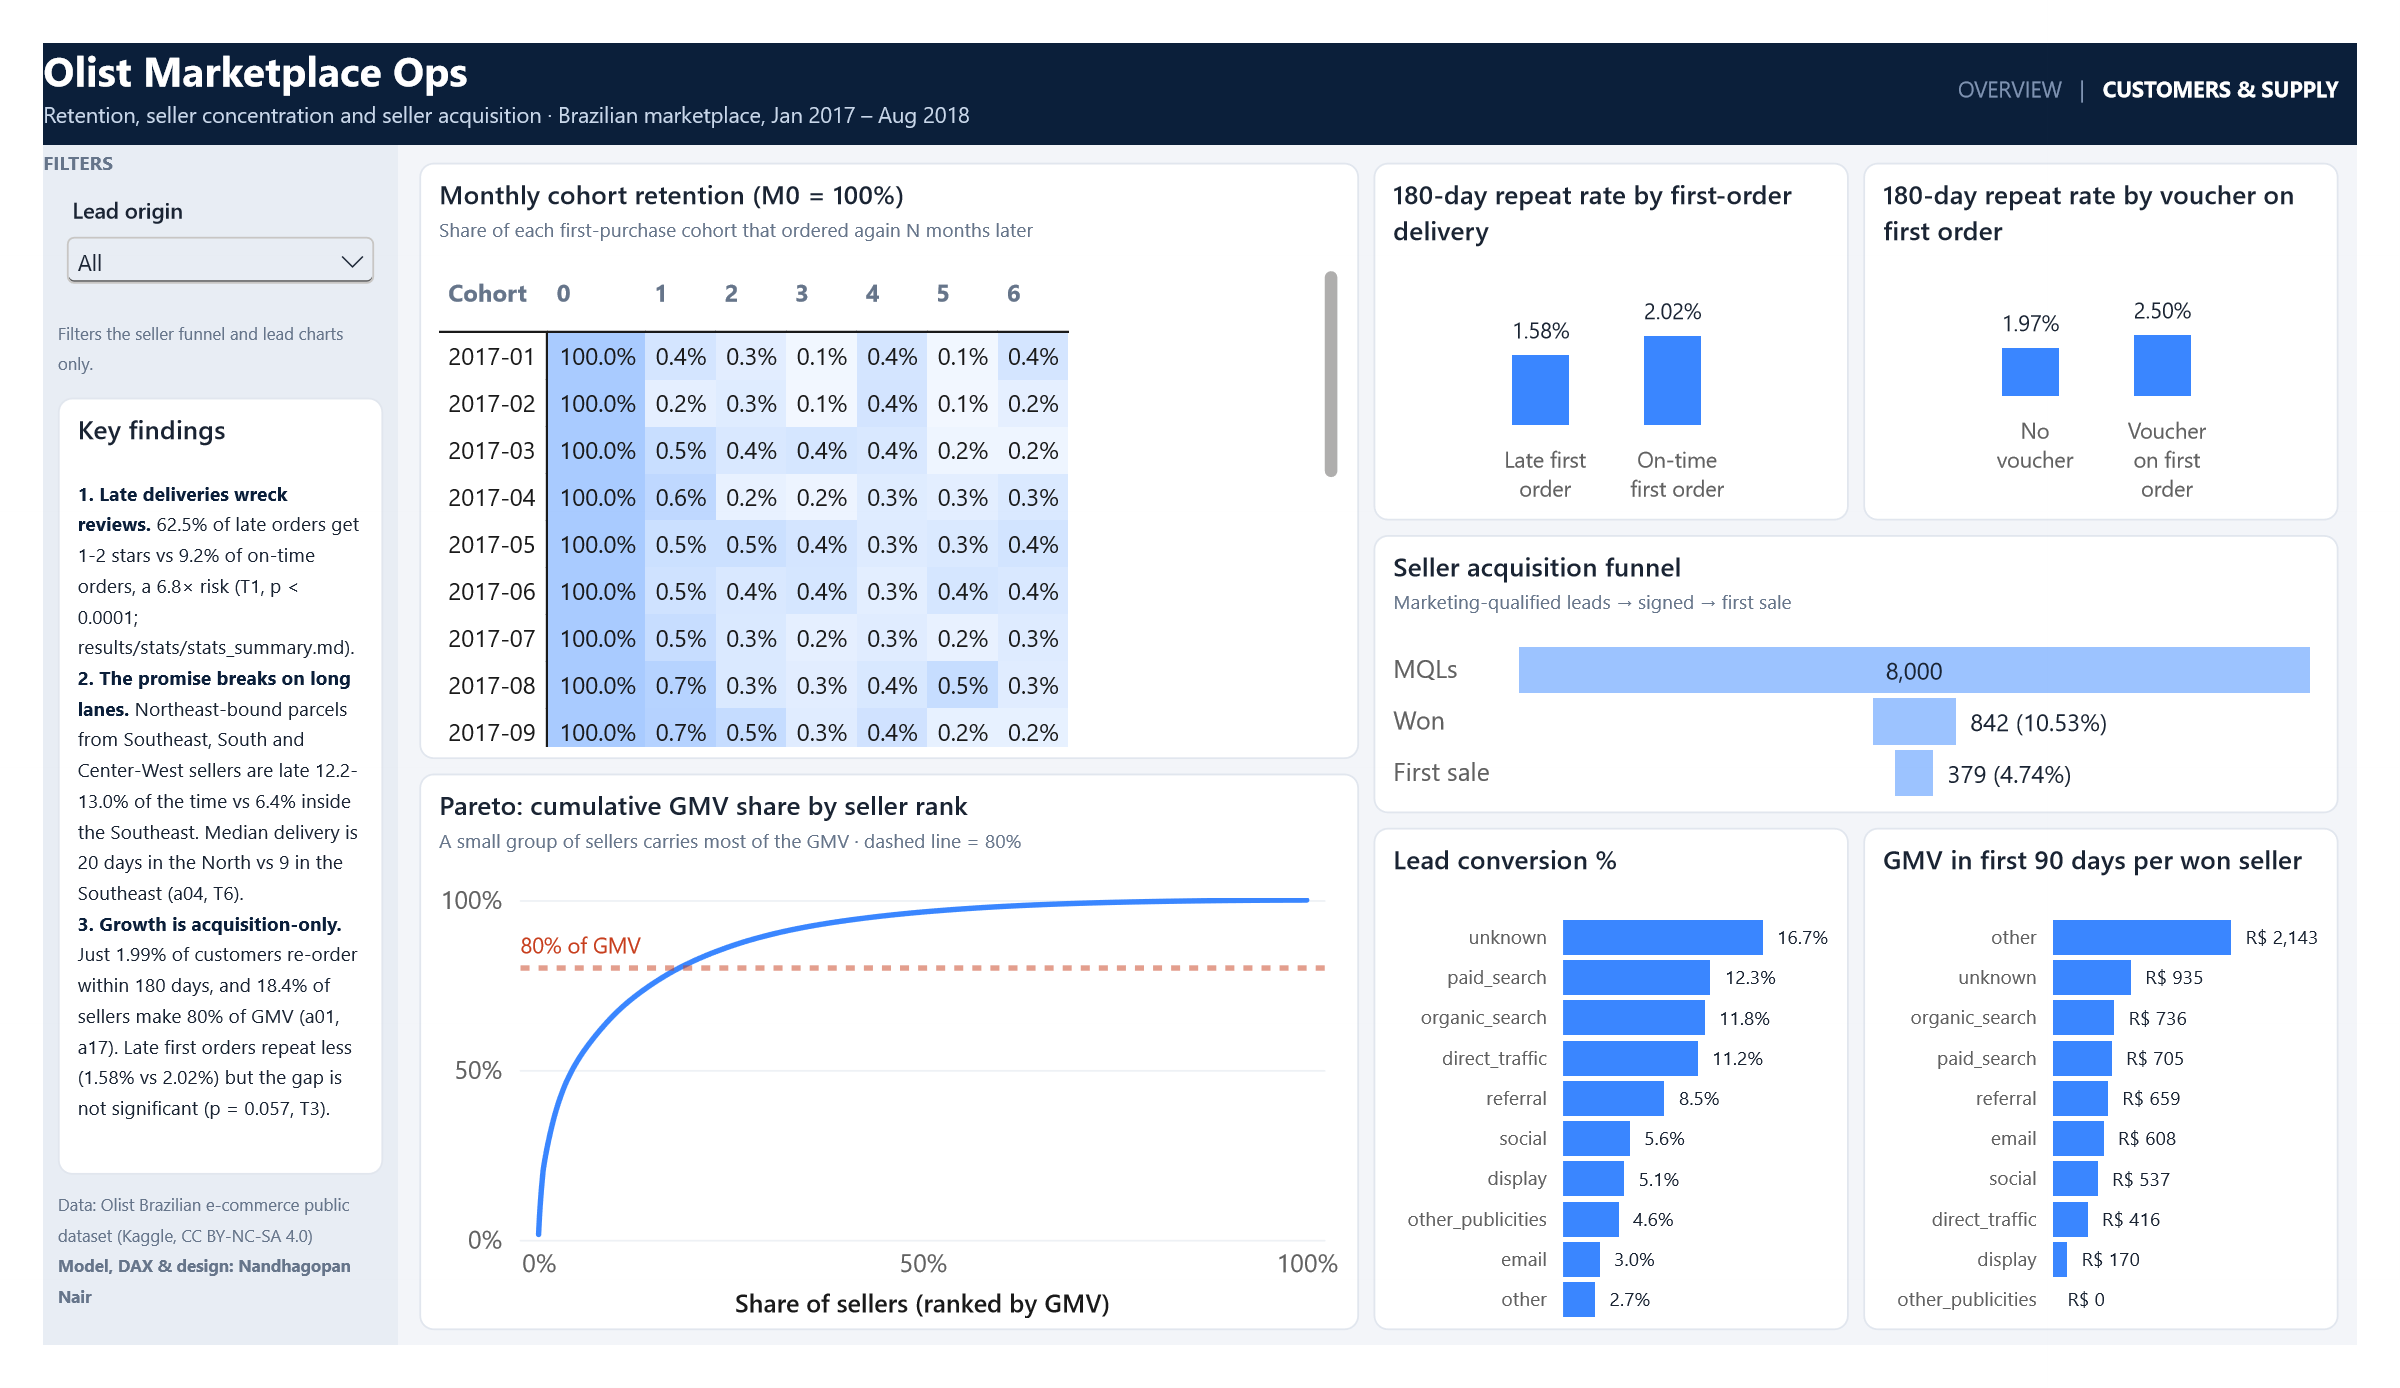

This screenshot's page, from the dashboard's own definition file:
{"tool":"powerbi","page":{"name":"Customers & Seller Supply","canvas":[1280,720],"ordinal":1},"visuals":[{"type":"textbox","box":[0,0,1280,56],"z":0},{"type":"textbox","box":[930,16,340,26],"z":1000},{"type":"textbox","box":[0,56,196,664],"z":2000},{"type":"textbox","box":[8,632,182,84],"z":3000},{"type":"slicer","fields":{"Values":["fact_seller_leads.origin"]},"box":[8,84,180,62],"z":4000},{"type":"textbox","box":[8,150,180,40],"z":5000},{"type":"pivotTable","title":"Monthly cohort retention (M0 = 100%)","fields":{"Columns":["mart_cohort_retention.months_since"],"Rows":["mart_cohort_retention.cohort_month"],"Values":["Max(mart_cohort_retention.retention_pct)"]},"box":[208,66,520,330],"z":6000},{"type":"lineChart","title":"Pareto: cumulative GMV share by seller rank","fields":{"Category":["mart_pareto_sellers.seller_pct_rank"],"Y":["Max(mart_pareto_sellers.cum_gmv_share)"]},"box":[208,404,520,308],"z":7000},{"type":"clusteredColumnChart","title":"180-day repeat rate by first-order delivery","fields":{"Category":["dim_customer.first_order_delivery"],"Y":["_Measures.Repeat Rate 180d"]},"box":[736,66,263,198],"z":8000},{"type":"clusteredColumnChart","title":"180-day repeat rate by voucher on first order","fields":{"Category":["dim_customer.first_order_payment"],"Y":["_Measures.Repeat Rate 180d"]},"box":[1007,66,263,198],"z":9000},{"type":"funnel","title":"Seller acquisition funnel","fields":{"Y":["_Measures.MQLs","_Measures.Won Leads","_Measures.Sellers With First Sale"]},"box":[736,272,534,154],"z":10000},{"type":"clusteredBarChart","title":"Lead conversion %","fields":{"Category":["fact_seller_leads.origin"],"Y":["_Measures.Lead Conversion %"]},"box":[736,434,263,278],"z":11000},{"type":"clusteredBarChart","title":"GMV in first 90 days per won seller","fields":{"Category":["fact_seller_leads.origin"],"Y":["_Measures.GMV 90d per Won Seller"]},"box":[1007,434,263,278],"z":12000},{"type":"textbox","title":"Key findings","box":[8,196,180,430],"z":13000}]}

Visuals, with their boxes in screenshot pixels (x1, y1, x2, y2), scaled from the page's 1280x720 canvas onto the 2400x1388 screenshot:
textbox: bbox=[0, 0, 2399, 108]
textbox: bbox=[1744, 31, 2381, 81]
textbox: bbox=[0, 108, 368, 1387]
textbox: bbox=[15, 1218, 356, 1380]
slicer - fact_seller_leads.origin: bbox=[15, 162, 352, 281]
textbox: bbox=[15, 289, 352, 366]
"Monthly cohort retention (M0 = 100%)" pivotTable: bbox=[390, 127, 1365, 763]
"Pareto: cumulative GMV share by seller rank" lineChart: bbox=[390, 779, 1365, 1373]
"180-day repeat rate by first-order delivery" clusteredColumnChart: bbox=[1380, 127, 1873, 509]
"180-day repeat rate by voucher on first order" clusteredColumnChart: bbox=[1888, 127, 2381, 509]
"Seller acquisition funnel" funnel: bbox=[1380, 524, 2381, 821]
"Lead conversion %" clusteredBarChart: bbox=[1380, 837, 1873, 1373]
"GMV in first 90 days per won seller" clusteredBarChart: bbox=[1888, 837, 2381, 1373]
"Key findings" textbox: bbox=[15, 378, 352, 1207]
